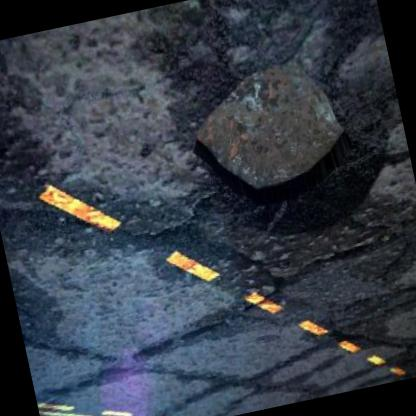pothole: (176, 49, 360, 220)
